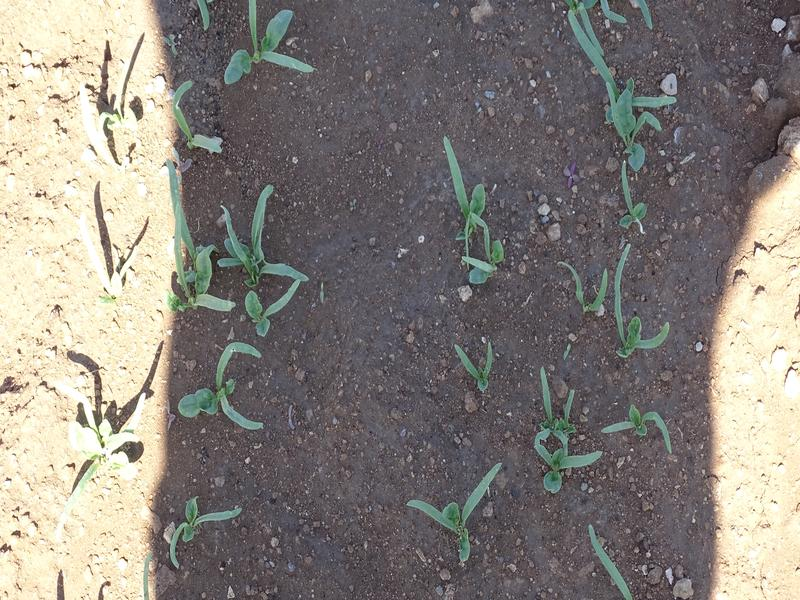Espinaca: (564, 4, 683, 235), (161, 168, 316, 329), (571, 247, 678, 358), (439, 139, 510, 292), (62, 378, 137, 504), (533, 378, 608, 500), (426, 452, 505, 561), (63, 83, 154, 175), (188, 337, 271, 434), (217, 13, 326, 77), (78, 203, 144, 297), (161, 500, 224, 555), (616, 406, 681, 454), (451, 340, 503, 390)
